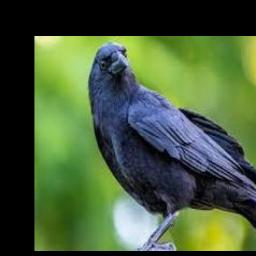Crow: (87, 41, 256, 249)
